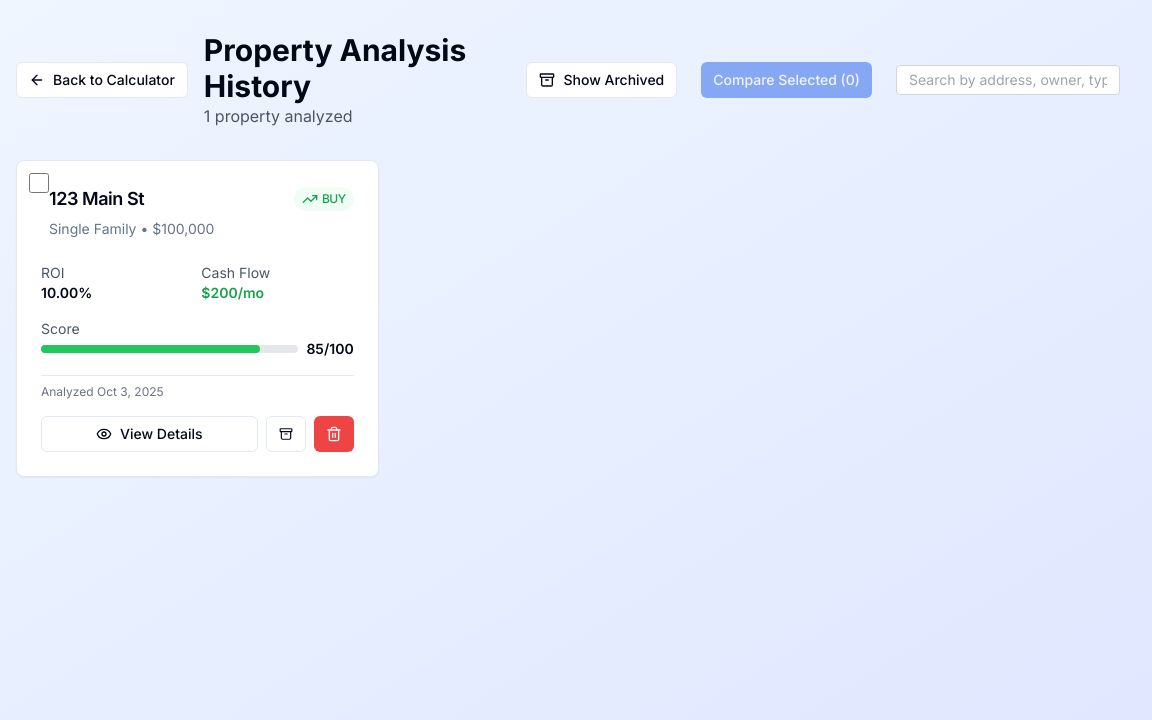
Test: PropertiesPage Delete/Undo › shows undo toast and restores property if undo is clicked
Expected: the text "123 Main St" is shown, [49,188,144,209]
Click delete button
What coordinates should you click on to do the following:
click the button titled "Delete property"
I would click on:
 (334, 434)
Its box is [314,416,354,452].
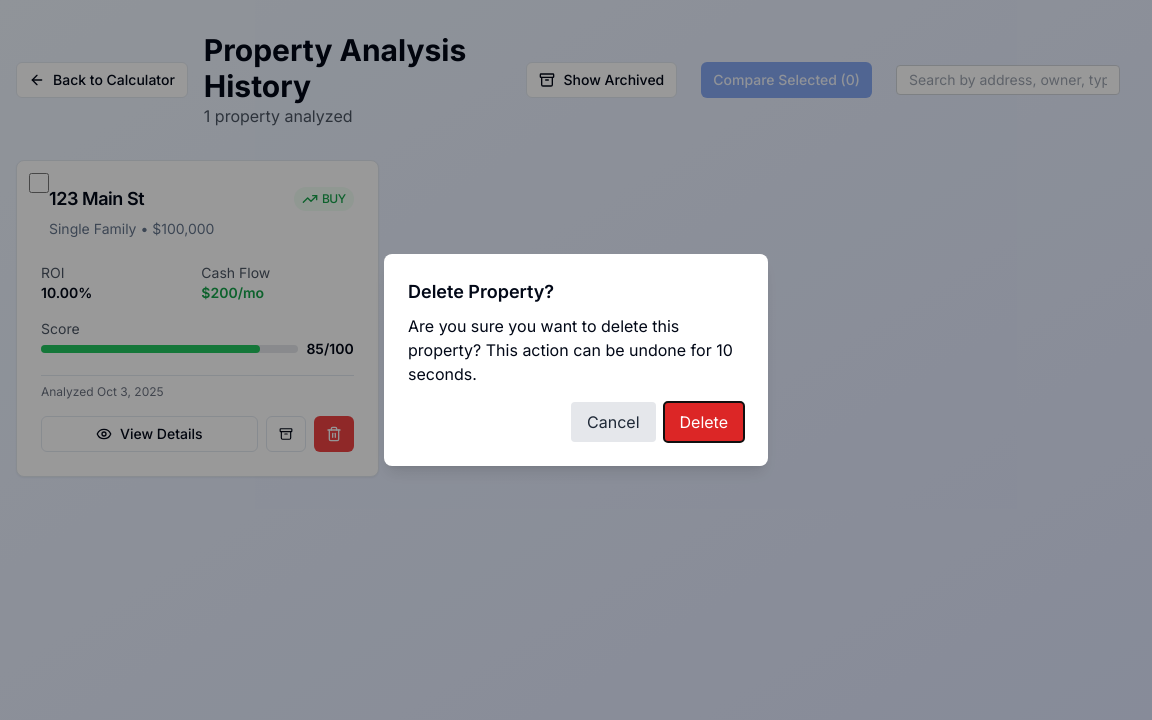
What coordinates should you click on to do the following:
click the button "Delete"
I would click on:
 (704, 422)
Its box is [664,402,744,442].
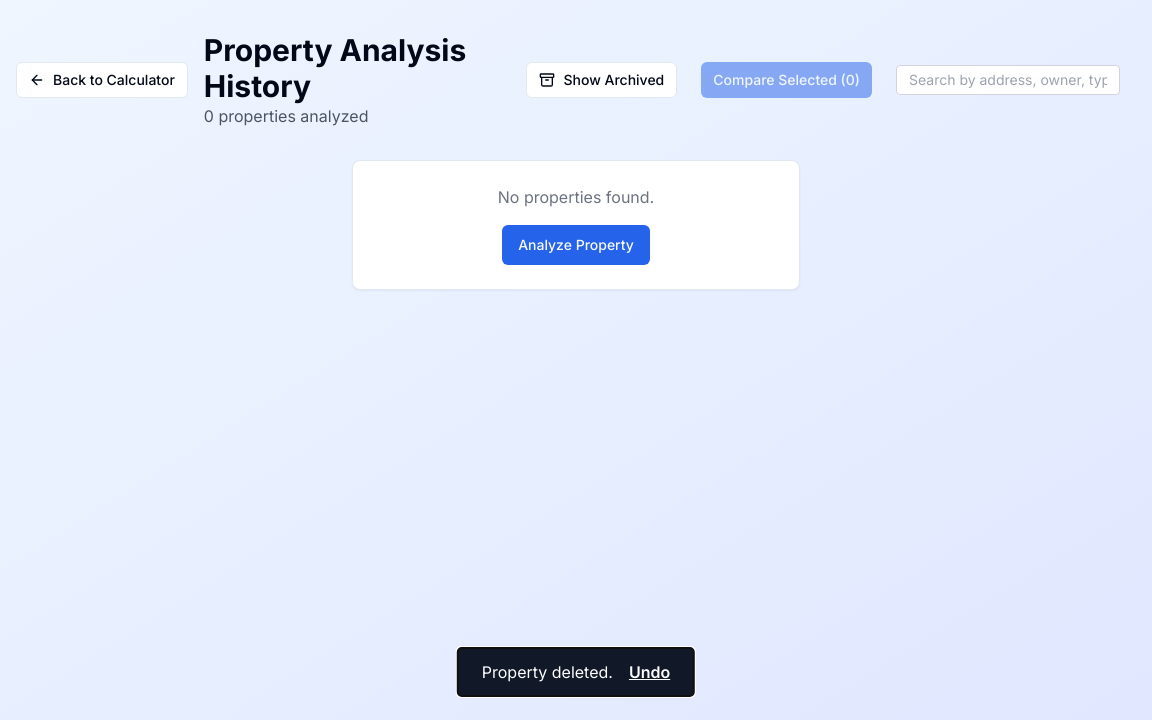
Expected: the text "123 Main St" is gone
Expected: the text "Property deleted." is shown, [482,660,613,684]
Click undo
What coordinates should you click on to do the following:
click the button "Undo"
I would click on:
 (650, 672)
Its box is [629,660,670,684].
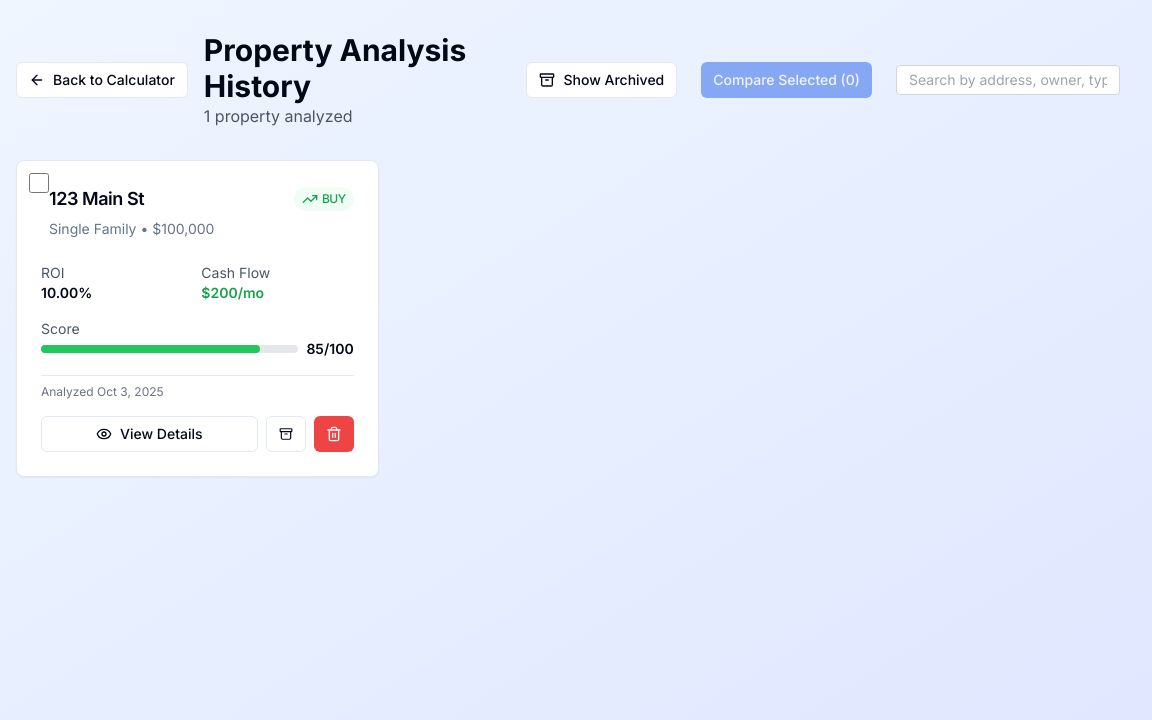
Expected: the text "123 Main St" is shown, [49,188,144,209]
